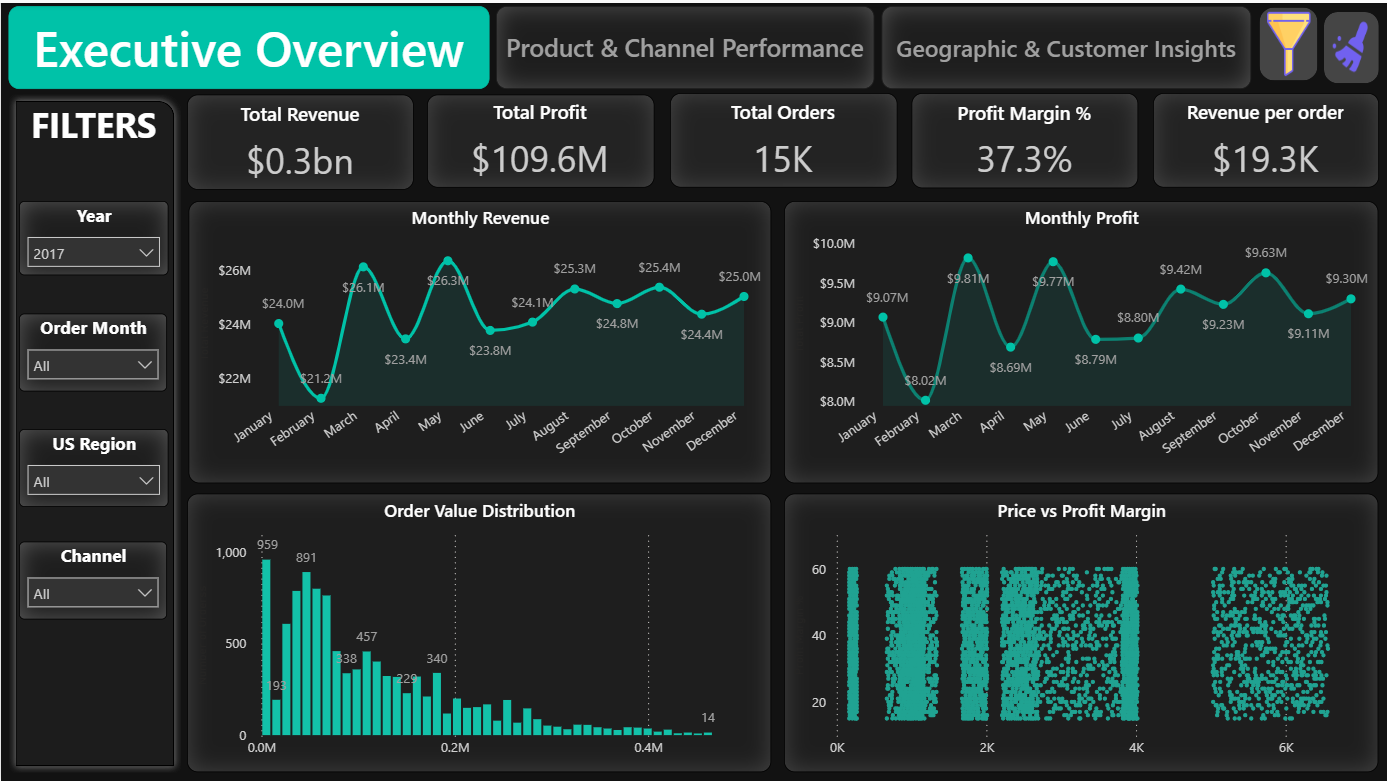

The page's visual inventory and layout, read from the dashboard file:
{"tool":"powerbi","page":{"name":"Executive Overview & Trends","canvas":[1280,720],"ordinal":0},"visuals":[{"type":"shape","box":[6.1,82.7,162.4,628.1],"z":0},{"type":"cardVisual","fields":{"Data":["Measures_.Total Revenue"]},"box":[171.6,84.2,209,88],"z":1000,"group":"g2"},{"type":"lineChart","title":"Monthly Revenue","fields":{"Category":["Sales_data.order_month_name"],"Y":["Measures_.Total Revenue"]},"box":[173.1,182.3,537.7,260.4],"z":1000},{"type":"cardVisual","fields":{"Data":["Measures_.Total Profit"]},"box":[393,84.2,209.9,85.8],"z":2000,"group":"g2"},{"type":"lineChart","title":"Monthly Profit ","fields":{"Category":["Sales_data.order_month_name"],"Y":["Measures_.Total Profit"]},"box":[723.1,182.3,548.4,260.4],"z":2000},{"type":"cardVisual","fields":{"Data":["Measures_.Profit Margin %"]},"box":[841,82.7,209,88],"z":3000,"group":"g2"},{"type":"scatterChart","title":"Price vs Profit Margin","fields":{"X":["Sales_data.unit_price"],"Y":["Sales_data.profit_margin_pct"]},"box":[723.1,453.4,548.4,257.4],"z":3000},{"type":"cardVisual","fields":{"Data":["Measures_.Total Orders"]},"box":[618,82.7,209.9,87.3],"z":4000,"group":"g2"},{"type":"columnChart","title":"Order Value Distribution","fields":{"Category":["Order_Value_Distribution.OrderValue (bins)"],"Y":["CountNonNull(Order_Value_Distribution.order_number)"]},"box":[171.6,453.4,539.2,257.4],"z":4000},{"type":"actionButton","box":[1220.9,7.7,50.6,65.9],"z":5000},{"type":"cardVisual","fields":{"Data":["Measures_.Revenue per order"]},"box":[1063.2,82.7,208.3,87.3],"z":5000,"group":"g2"},{"type":"actionButton","box":[1161.2,4.6,53.6,67.4],"z":6000},{"type":"group","id":"g1","title":"Group 1","box":[16.9,182.3,137.9,386],"z":7000},{"type":"textbox","box":[16.9,84.3,137.9,72],"z":8000},{"type":"group","id":"g2","title":"Group 2","box":[171.6,82.7,1099.9,89.5],"z":9000},{"type":"group","id":"g3","title":"Group 3","box":[7.1,3,1147.3,76.7],"z":10000},{"type":"actionButton","box":[457.5,3,349.3,76.6],"z":10000,"group":"g3"},{"type":"actionButton","box":[7.1,3.1,444.3,76.6],"z":11000,"group":"g3"},{"type":"actionButton","box":[812.8,3,341.6,76.6],"z":12000,"group":"g3"},{"type":"slicer","title":"Year","fields":{"Values":["Sales_data.year"]},"box":[16.9,182.3,137.9,68.9],"z":21500,"group":"g1"},{"type":"slicer","title":"Channel","fields":{"Values":["Sales_data.channel"]},"box":[16.9,496.3,136.4,72],"z":22000,"group":"g1"},{"type":"slicer","title":"Order Month","fields":{"Values":["Sales_data.order_month_name"]},"box":[16.9,286.5,136.4,72],"z":22250,"group":"g1"},{"type":"slicer","title":"US Region","fields":{"Values":["Sales_data.us_region"]},"box":[16.9,392.2,137.9,72],"z":22500,"group":"g1"}]}

Visuals, with their boxes in screenshot pixels (x1, y1, x2, y2), scaled from the page's 1280x720 canvas onto the 1387x781 screenshot:
shape: Rect(7, 90, 183, 771)
cardVisual - Measures_.Total Revenue: Rect(186, 91, 412, 187)
"Monthly Revenue" lineChart: Rect(188, 198, 770, 480)
cardVisual - Measures_.Total Profit: Rect(426, 91, 653, 184)
"Monthly Profit " lineChart: Rect(784, 198, 1378, 480)
cardVisual - Measures_.Profit Margin %: Rect(911, 90, 1138, 185)
"Price vs Profit Margin" scatterChart: Rect(784, 492, 1378, 771)
cardVisual - Measures_.Total Orders: Rect(670, 90, 897, 184)
"Order Value Distribution" columnChart: Rect(186, 492, 770, 771)
actionButton: Rect(1323, 8, 1378, 80)
cardVisual - Measures_.Revenue per order: Rect(1152, 90, 1378, 184)
actionButton: Rect(1258, 5, 1316, 78)
"Group 1" group: Rect(18, 198, 168, 616)
textbox: Rect(18, 91, 168, 170)
"Group 2" group: Rect(186, 90, 1378, 187)
"Group 3" group: Rect(8, 3, 1251, 86)
actionButton: Rect(496, 3, 874, 86)
actionButton: Rect(8, 3, 489, 86)
actionButton: Rect(881, 3, 1251, 86)
"Year" slicer: Rect(18, 198, 168, 272)
"Channel" slicer: Rect(18, 538, 166, 616)
"Order Month" slicer: Rect(18, 311, 166, 389)
"US Region" slicer: Rect(18, 425, 168, 504)
